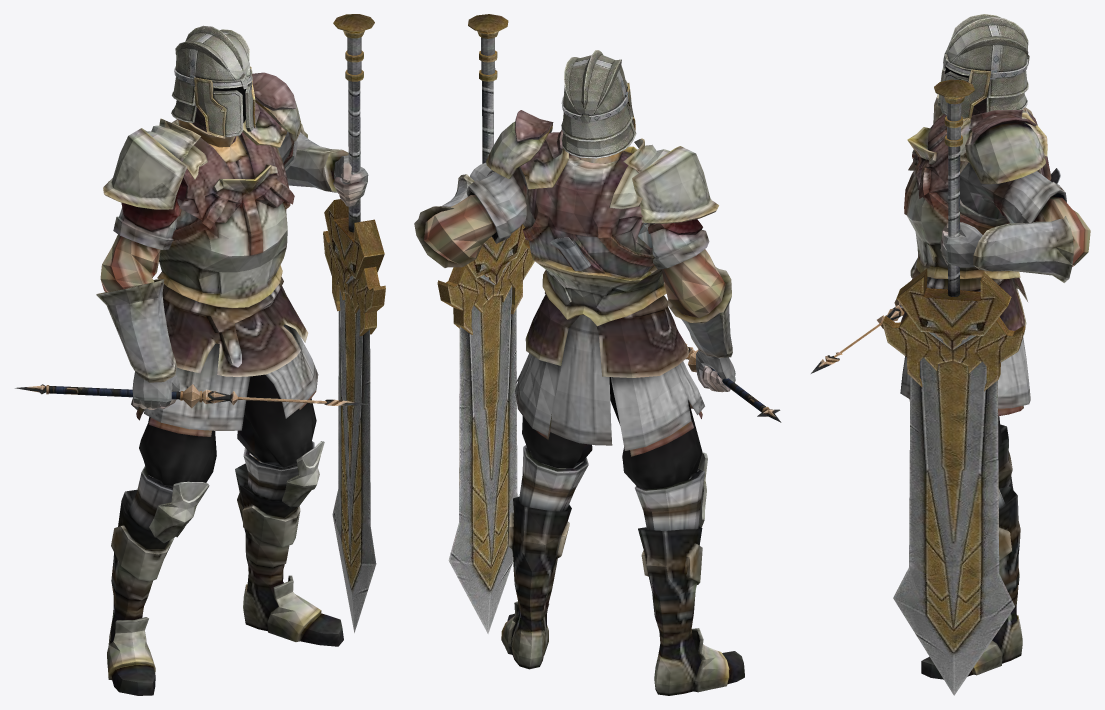
The model's file is knight.glb.
The picture shows the model from 3 angles, left to right: view 1: azimuth 30°, elevation 25°; view 2: azimuth 150°, elevation 25°; view 3: azimuth 270°, elevation 25°; orthographic projection.
Parts seen in each view (by area): view 1: Armor_Material.002_0, Sword_mat_2_0, Helmet_Material.003_0, L.hand_Material.004_0, Pillum_Material.001_0; view 2: Armor_Material.002_0, Sword_mat_2_0, Helmet_Material.003_0, L.hand_Material.004_0, Pillum_Material.001_0; view 3: Sword_mat_2_0, Armor_Material.002_0, Helmet_Material.003_0, L.hand_Material.004_0, Pillum_Material.001_0.
Boxes of the visible parts, bbox=[...] form: Armor_Material.002_0: bbox=[96, 72, 348, 695]; Sword_mat_2_0: bbox=[323, 14, 385, 632]; Helmet_Material.003_0: bbox=[171, 25, 255, 144]; L.hand_Material.004_0: bbox=[132, 155, 368, 409]; Pillum_Material.001_0: bbox=[15, 384, 369, 408]; Armor_Material.002_0: bbox=[414, 110, 744, 695]; Sword_mat_2_0: bbox=[437, 14, 534, 633]; Helmet_Material.003_0: bbox=[561, 50, 636, 158]; L.hand_Material.004_0: bbox=[470, 162, 735, 392]; Pillum_Material.001_0: bbox=[685, 344, 781, 422]; Sword_mat_2_0: bbox=[882, 79, 1025, 695]; Armor_Material.002_0: bbox=[900, 94, 1090, 679]; Helmet_Material.003_0: bbox=[938, 14, 1029, 120]; L.hand_Material.004_0: bbox=[940, 222, 982, 267]; Pillum_Material.001_0: bbox=[811, 299, 905, 373].
Bounding box in the file's own units: 110 × 195 × 79.94.
Materials: 5 (5 with a texture image).
